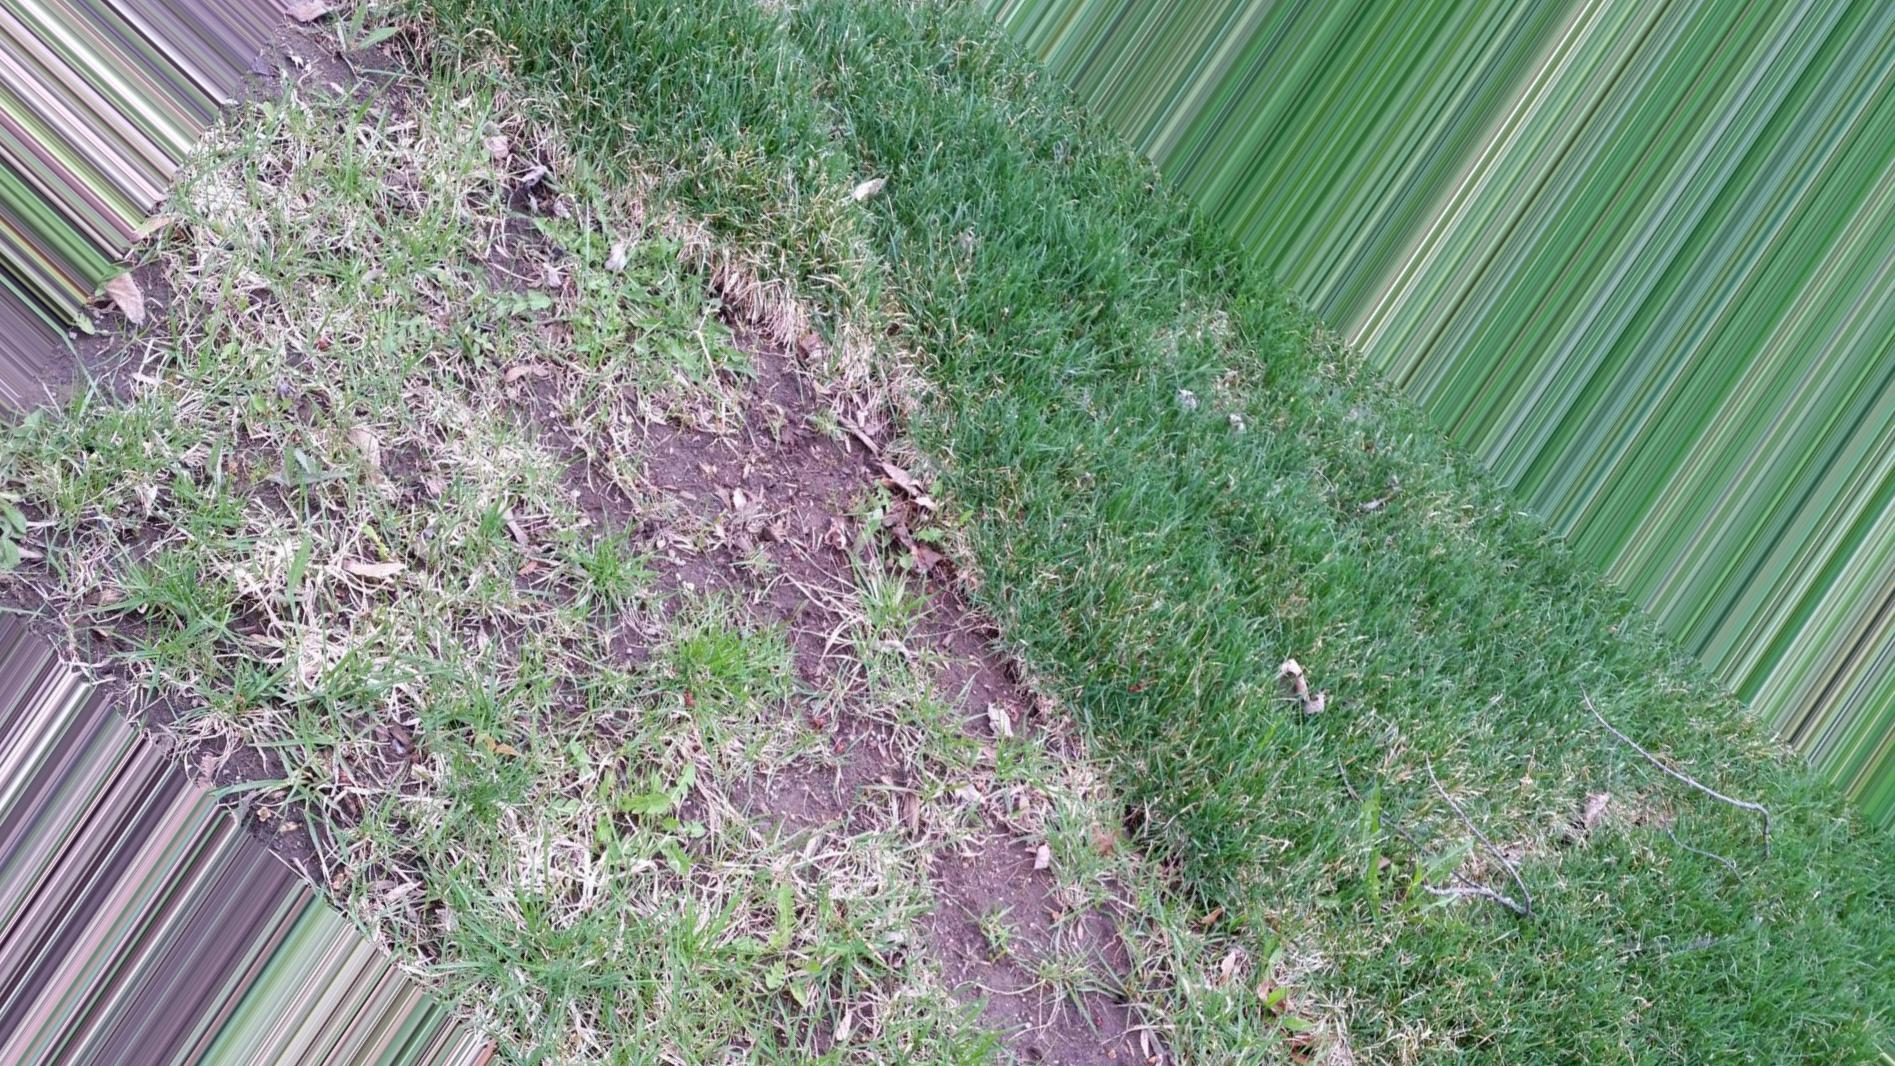patch: (791, 722, 1131, 1049), (591, 366, 923, 686)
